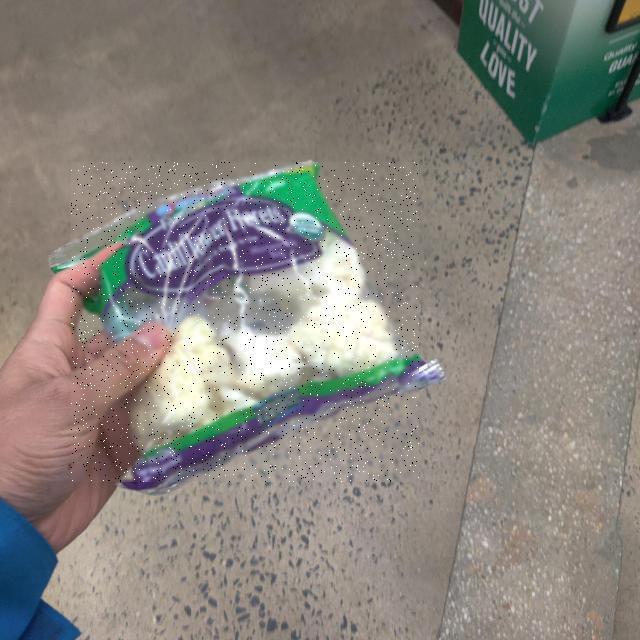Cauliflower: (71, 162, 419, 482)
